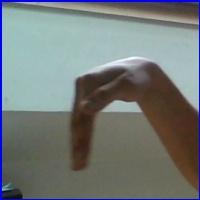A: (54, 56, 174, 175)
